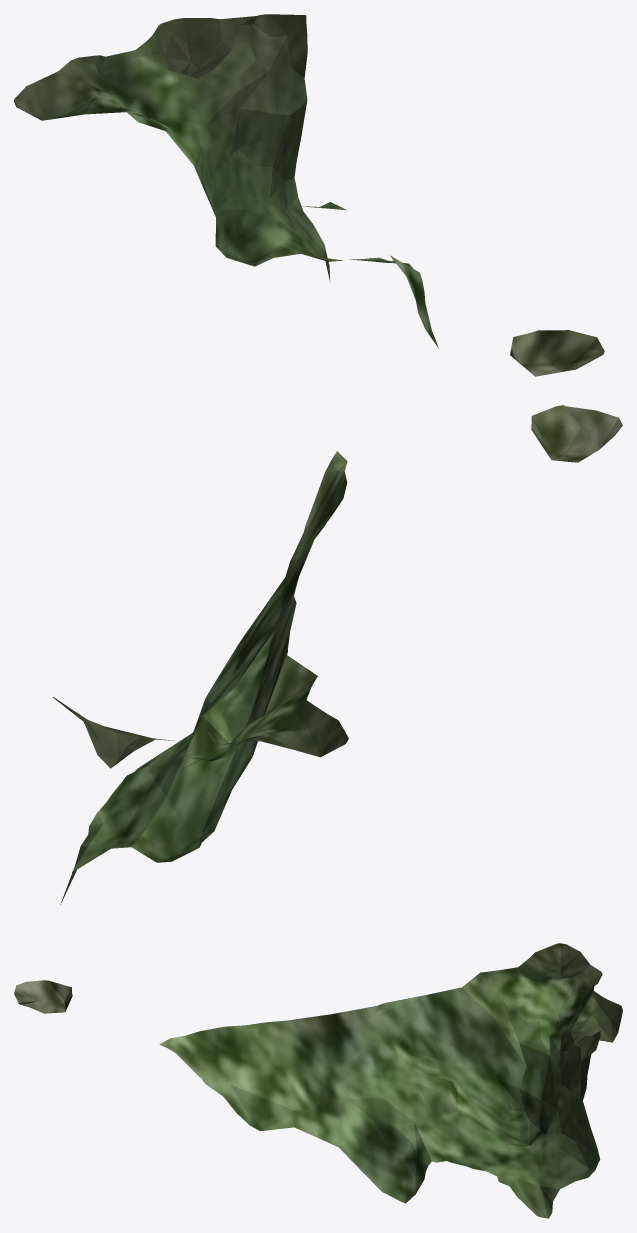
The picture shows the model from 3 angles, top to bottom: view 1: azimuth 30°, elevation 25°; view 2: azimuth 150°, elevation 25°; view 3: azimuth 270°, elevation 25°; orthographic projection. The views are drawn at different scales.
Bounding box in the file's own units: 1.79 × 1.44 × 4.56.
Materials: 1 (1 with a texture image).
